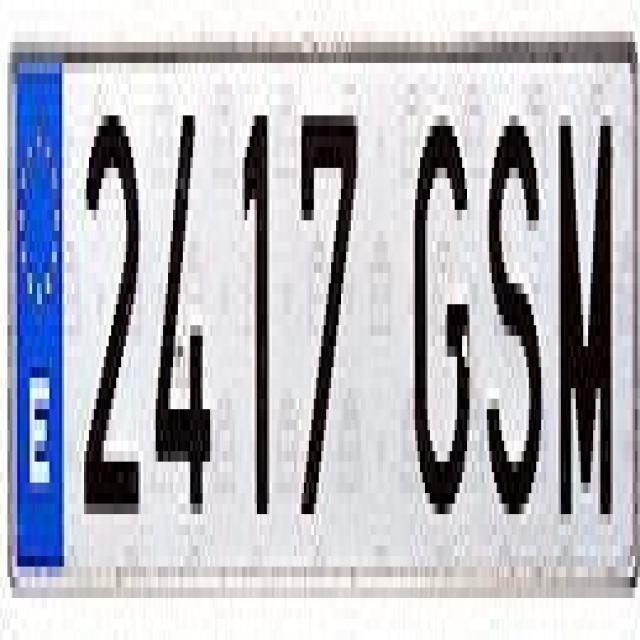EU: (3, 48, 638, 598)
Espagne: (12, 63, 60, 562)
